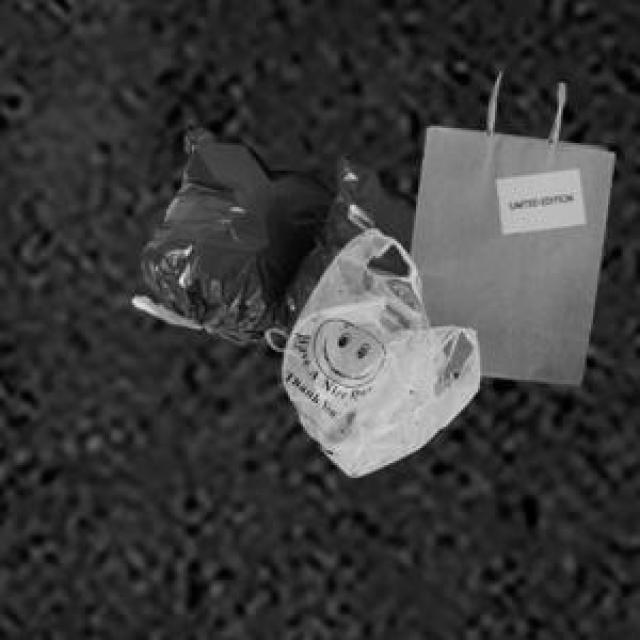miscellaneous trash: (128, 122, 414, 339)
paper: (408, 79, 610, 382)
